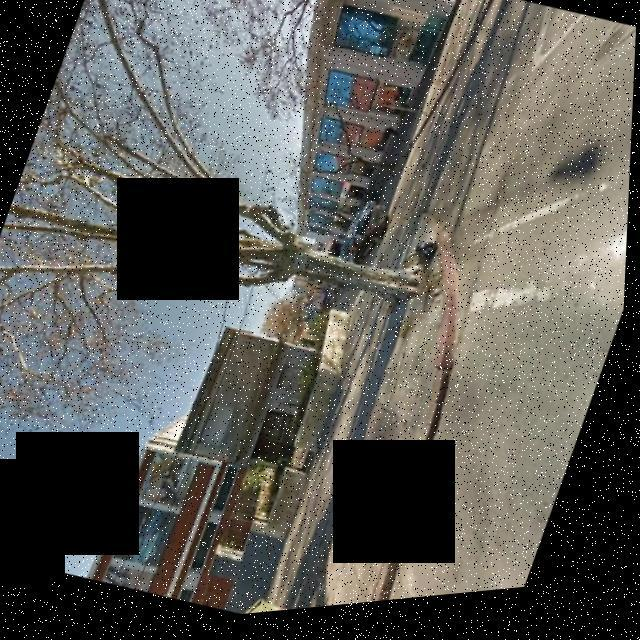bin: (237, 575, 371, 620)
